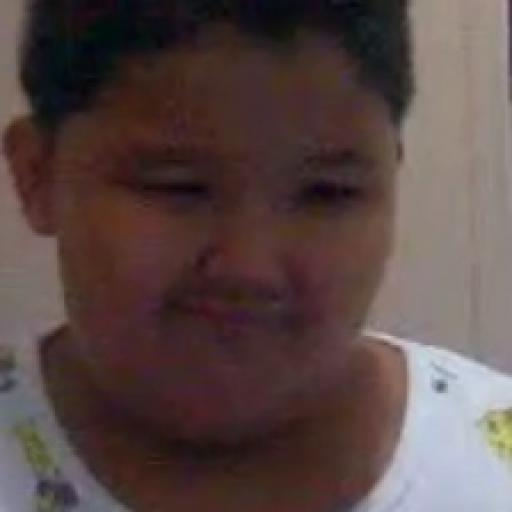Autism: (22, 10, 468, 444)
